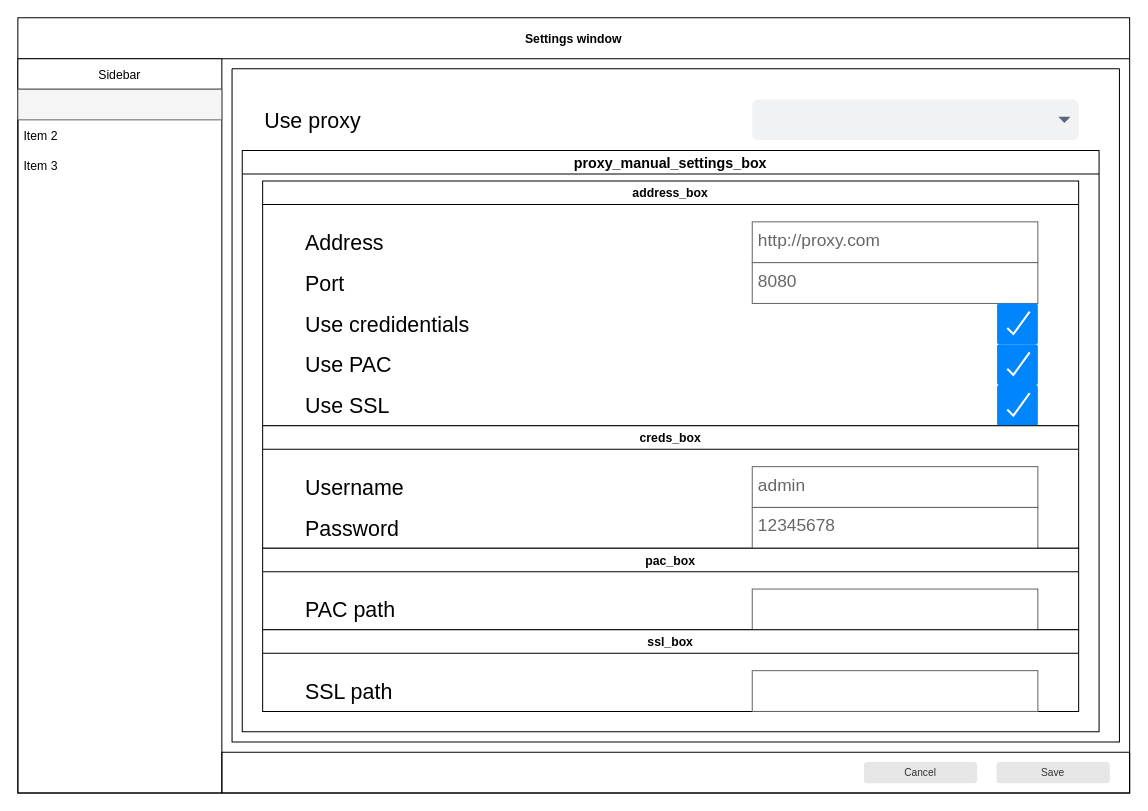
Image size: 1148x811. Some labels were removed from this diagram. The shapes that lost their labels are listed below. From the top down, each one's centre as x and y in pixels, then its label:
At [119,104]: "Proxy".
At [915,119]: "manual".
At [894,609]: "http://proxy.com/proxy.pac".
At [894,690]: "cert.pem".
